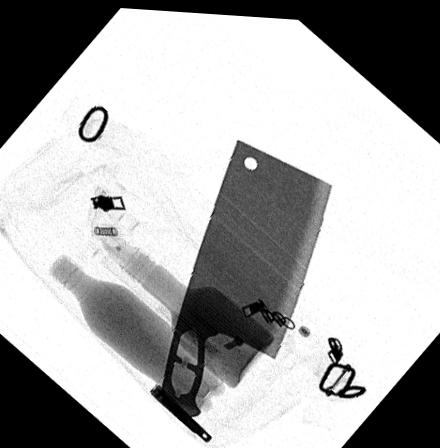Knife: (158, 134, 332, 415)
